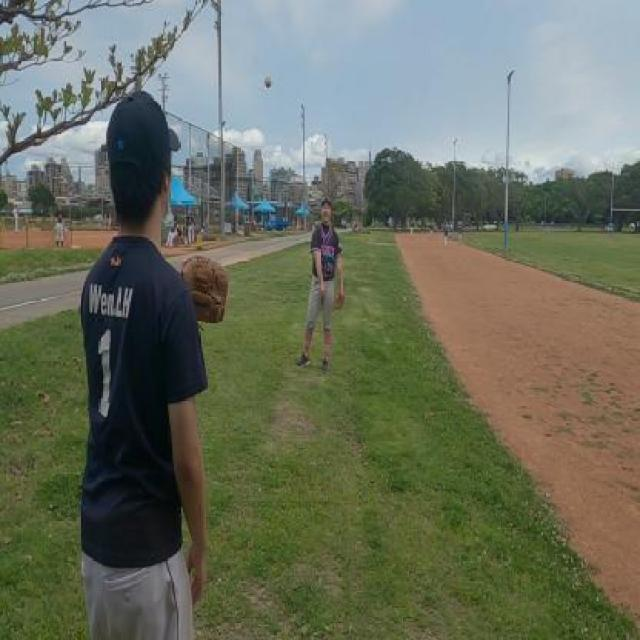baseball: (265, 76, 272, 90)
